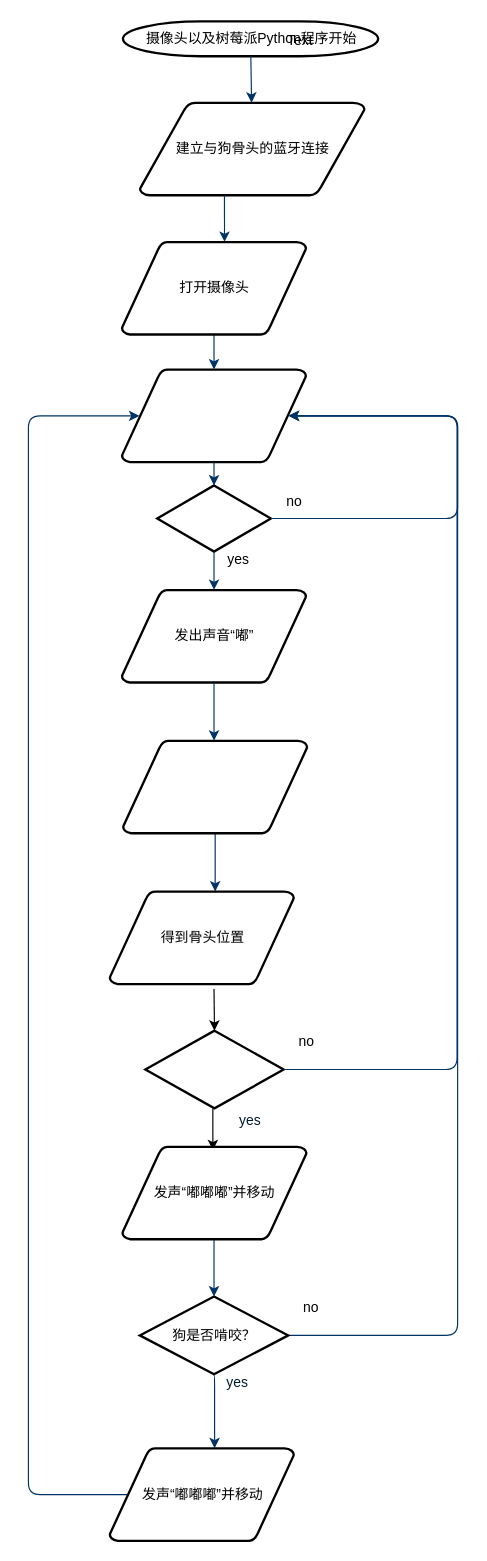
Some shapes in this 487 by 1561 pixel diagram are drawn without their labels. Here are the shapes that lost their labels. From the top down, the centre of each, then its label:
[213,415]: 读摄像头一帧图像
[213,518]: 是否有狗？
[214,786]: 得到宠物位置
[214,1069]: 狗是否靠近骨头？
